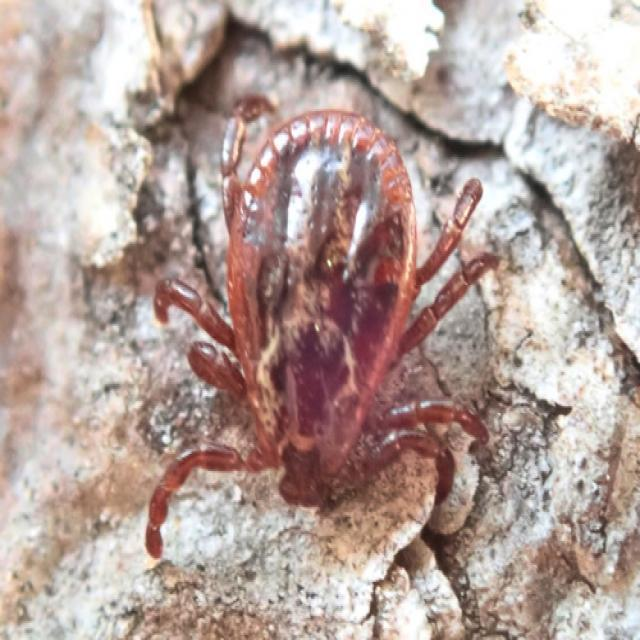Dermacentor Reticulatus-M: (143, 109, 499, 561)
